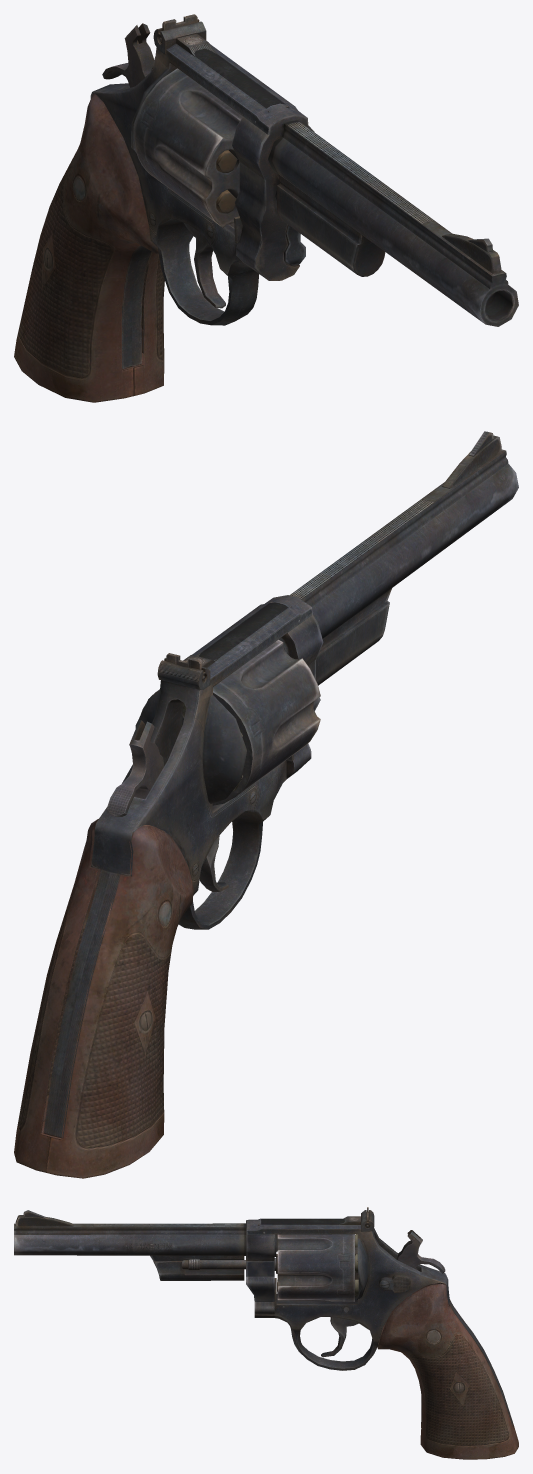
The model's file is 44 FULL.FBX.
3 views of the same model, one above another, from view 1: azimuth 30°, elevation 25°; view 2: azimuth 150°, elevation 25°; view 3: azimuth 270°, elevation 25° (orthographic). The views are drawn at different scales.
Visible parts, largest first — view 1: 44MagGrips:0, 44MagnumReceiver:0, 44MagBarrelLong:0, 44MagnumCylinder:0, Object007:0, 44MagnumHammer:0, 44MagnumTrigger:0, 44MagnumBullets:0, 44 MagnumGate:0; view 2: 44MagGrips:0, 44MagnumReceiver:0, 44MagBarrelLong:0, 44MagnumCylinder:0, 44MagnumHammer:0, Object007:0; view 3: 44MagGrips:0, 44MagnumReceiver:0, 44MagBarrelLong:0, 44MagnumCylinder:0, 44 MagnumGate:0, 44MagnumHammer:0, 44MagnumEjector:0, Object007:0, 44MagnumTrigger:0, 44 MagnumBoltLatch:0.
Part boxes in pixels (x1,y1,x2,y2): 44MagGrips:0: (14, 93, 189, 402); 44MagnumReceiver:0: (90, 43, 314, 369); 44MagBarrelLong:0: (268, 120, 518, 326); 44MagnumCylinder:0: (134, 68, 242, 228); Object007:0: (153, 14, 289, 112); 44MagnumHammer:0: (102, 23, 153, 87); 44MagnumTrigger:0: (184, 223, 225, 308); 44MagnumBullets:0: (216, 150, 237, 213); 44 MagnumGate:0: (275, 182, 305, 265); 44MagGrips:0: (14, 819, 193, 1178); 44MagnumReceiver:0: (43, 595, 323, 1138); 44MagBarrelLong:0: (290, 431, 518, 685); 44MagnumCylinder:0: (141, 639, 320, 805); 44MagnumHammer:0: (106, 720, 163, 827); Object007:0: (157, 601, 291, 689); 44MagGrips:0: (377, 1282, 518, 1459); 44MagnumReceiver:0: (246, 1218, 513, 1427); 44MagBarrelLong:0: (14, 1210, 246, 1280); 44MagnumCylinder:0: (276, 1234, 354, 1301); 44 MagnumGate:0: (246, 1256, 274, 1314); 44MagnumHammer:0: (397, 1230, 445, 1296); 44MagnumEjector:0: (181, 1258, 275, 1270); Object007:0: (258, 1207, 374, 1231); 44MagnumTrigger:0: (321, 1317, 358, 1357); 44 MagnumBoltLatch:0: (379, 1274, 410, 1292).
Bounding box in the file's own units: 3.64 × 12.7 × 24.86.
